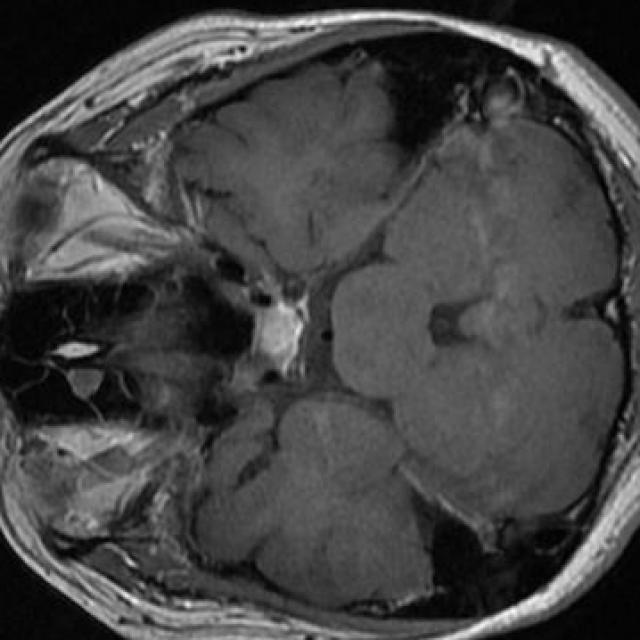pituitary: (257, 307, 301, 367)
